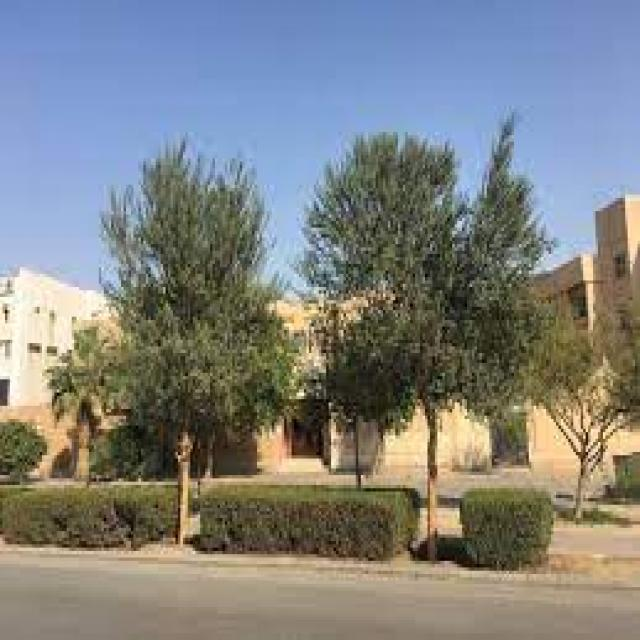tree: (309, 135, 586, 558), (60, 138, 302, 548), (2, 419, 47, 495)
